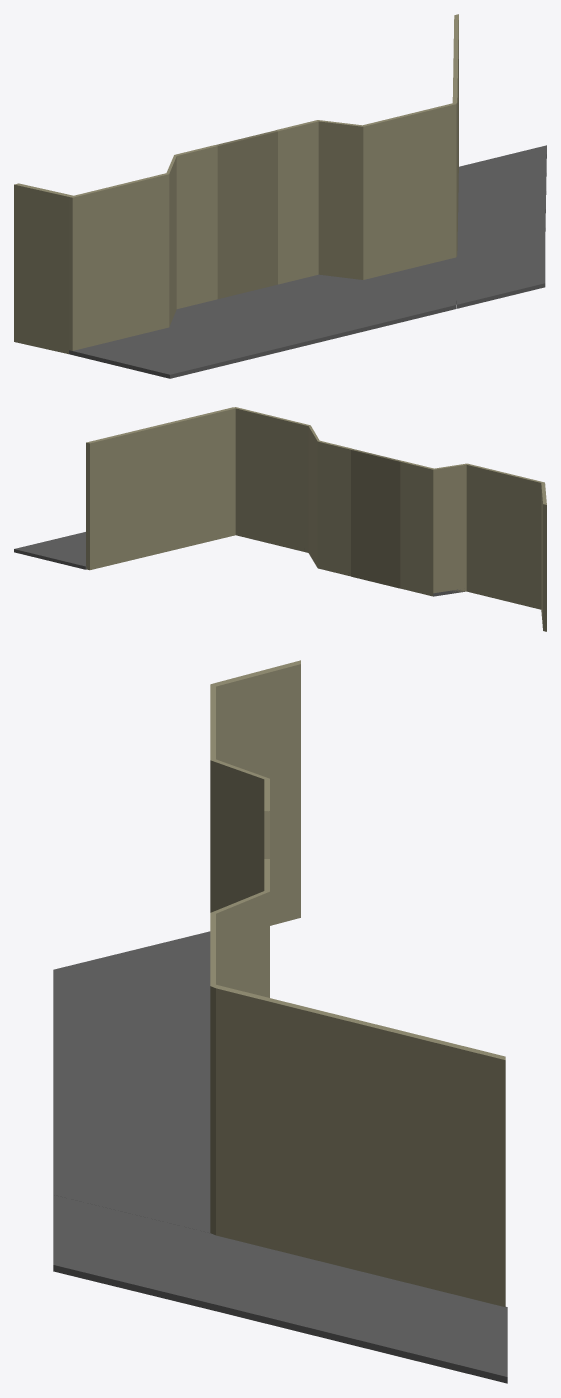
The model's file is MDL_Videoroom_01.fbx.
3 renders of one model, top to bottom at view 1: azimuth 30°, elevation 25°; view 2: azimuth 150°, elevation 25°; view 3: azimuth 270°, elevation 25°, orthographic. The views are drawn at different scales.
Parts seen in each view (by area): view 1: MDL_Video_wall_01, MDL_Video_wall_02, MDL_Videoprep, MDL_Videoprep.001, MDL_Video_wall_03; view 2: MDL_Video_wall_02, MDL_Video_wall_01, MDL_Video_wall_03, MDL_Videoprep.001; view 3: MDL_Video_wall_02, MDL_Videoprep, MDL_Videoprep.001, MDL_Video_wall_01.
Part boxes in pixels (x1,y1,x2,y2): MDL_Video_wall_01: [14, 145, 217, 354]; MDL_Video_wall_02: [276, 14, 458, 284]; MDL_Videoprep: [69, 257, 456, 378]; MDL_Videoprep.001: [456, 145, 546, 308]; MDL_Video_wall_03: [216, 130, 277, 298]; MDL_Video_wall_02: [86, 407, 352, 576]; MDL_Video_wall_01: [400, 460, 546, 631]; MDL_Video_wall_03: [351, 449, 400, 588]; MDL_Videoprep.001: [14, 532, 86, 569]; MDL_Video_wall_02: [210, 859, 505, 1307]; MDL_Videoprep: [53, 931, 210, 1232]; MDL_Videoprep.001: [53, 1195, 507, 1383]; MDL_Video_wall_01: [210, 660, 300, 925].
Size of the model in its own units: 1080 by 272 by 442.
